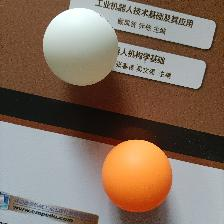WhiteBall: (41, 7, 119, 86)
YellowBall: (100, 139, 173, 212)
